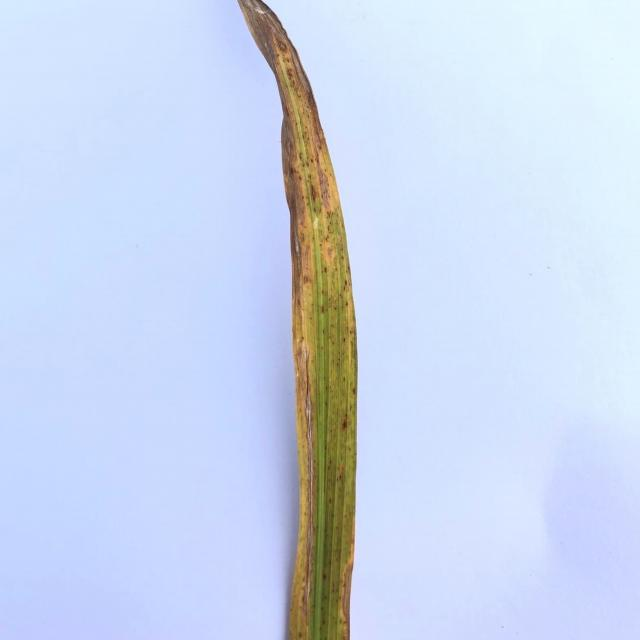tungro: (220, 0, 360, 640)
